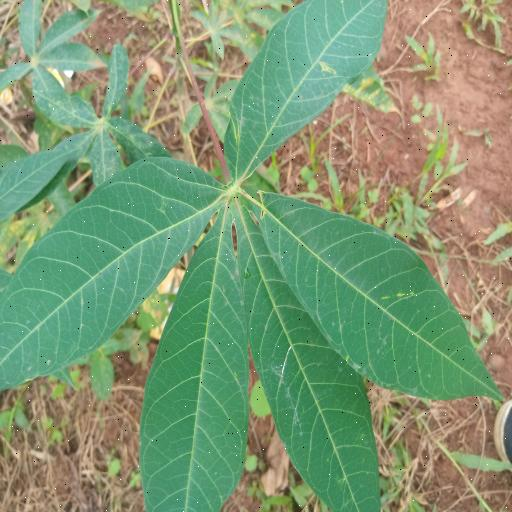Cassava_Healthy: (4, 2, 499, 512)
